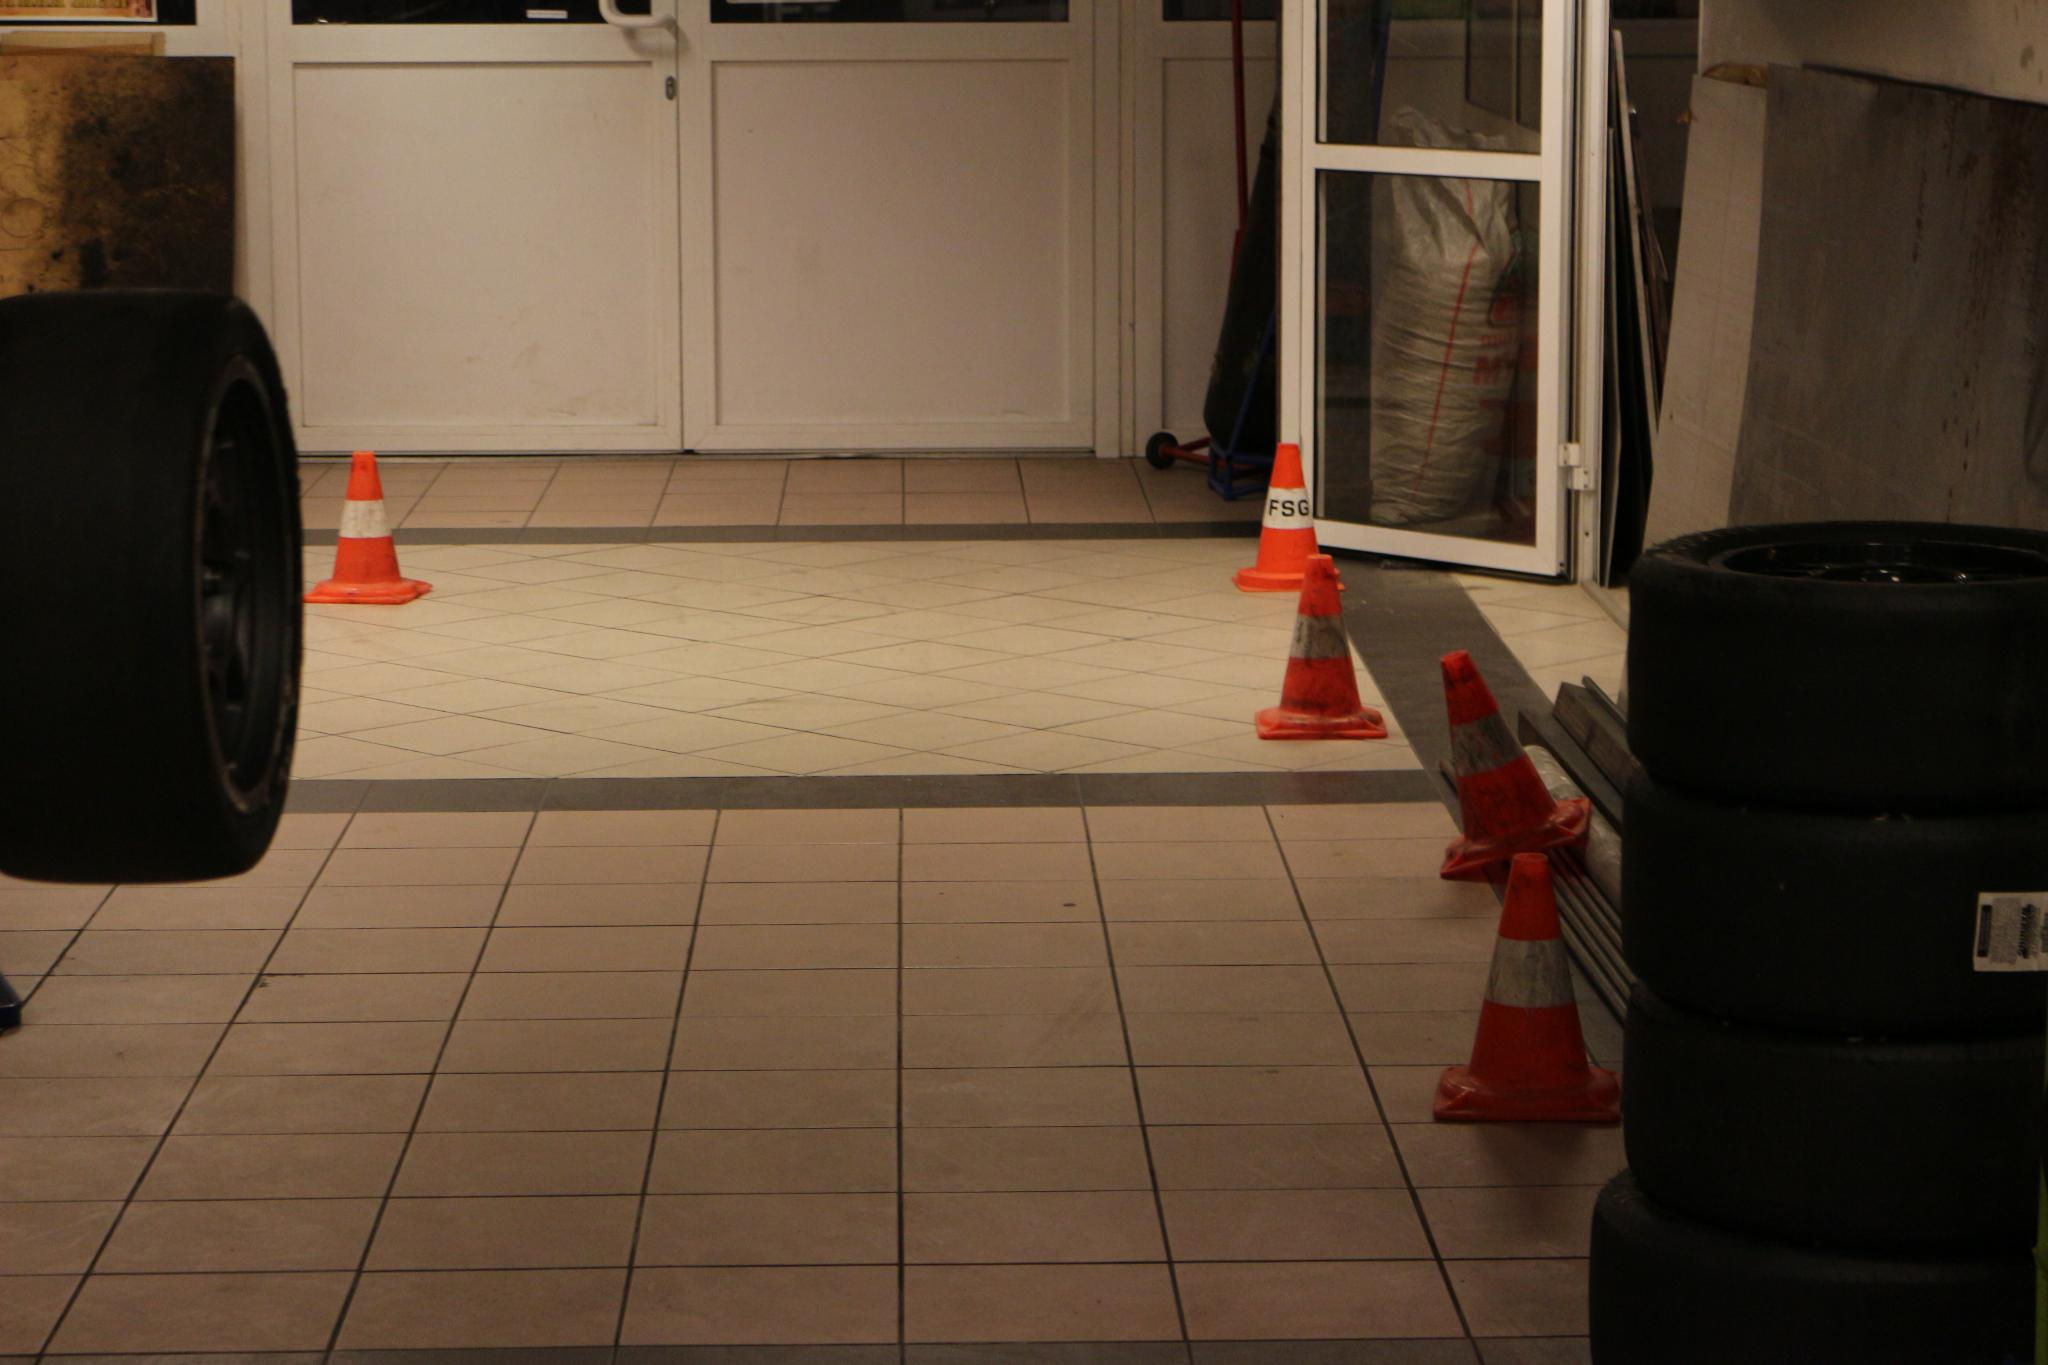Orange_Cone: (1424, 844, 1623, 1130), (1439, 646, 1602, 873), (1252, 548, 1392, 739), (308, 449, 431, 602), (1232, 440, 1351, 594)
